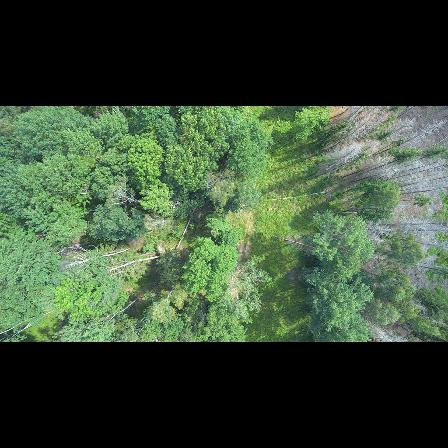Dead: (385, 121, 445, 154), (56, 242, 129, 268), (318, 144, 363, 178), (358, 312, 402, 342), (389, 166, 442, 186), (332, 119, 370, 146), (108, 179, 143, 207), (374, 217, 448, 230), (400, 234, 448, 253), (398, 186, 445, 200), (401, 259, 444, 274)
